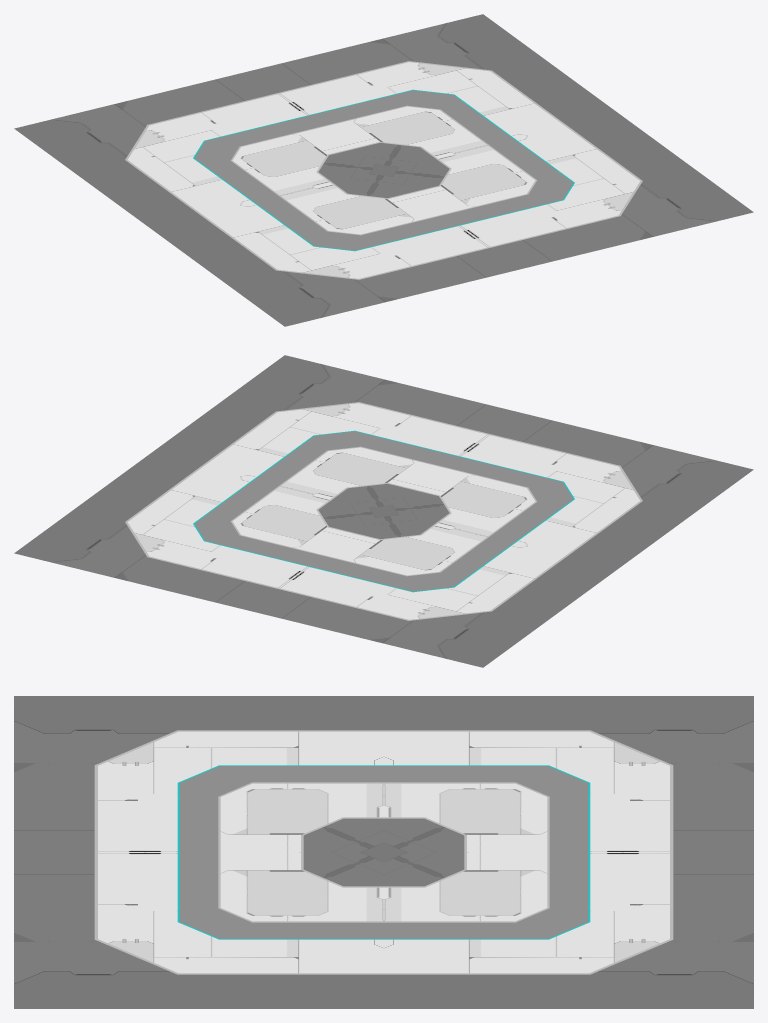
Rendered from SM_Floor_Interior_18x18_1.fbx.
3 renders of one model, top to bottom at view 1: azimuth 30°, elevation 25°; view 2: azimuth 150°, elevation 25°; view 3: azimuth 270°, elevation 25°, orthographic. The views are drawn at different scales.
Visible parts, largest first — view 1: SM_Floor_Interior_18x18_1; view 2: SM_Floor_Interior_18x18_1; view 3: SM_Floor_Interior_18x18_1.
Boxes of the visible parts, x1,y1,x2,y2 form: SM_Floor_Interior_18x18_1: (14,14,753,326); SM_Floor_Interior_18x18_1: (14,355,753,667); SM_Floor_Interior_18x18_1: (14,696,753,1008).
Bounding box in the file's own units: 1800 × 4.17e-07 × 1800.
